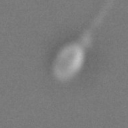normal: (80, 1, 118, 45)
